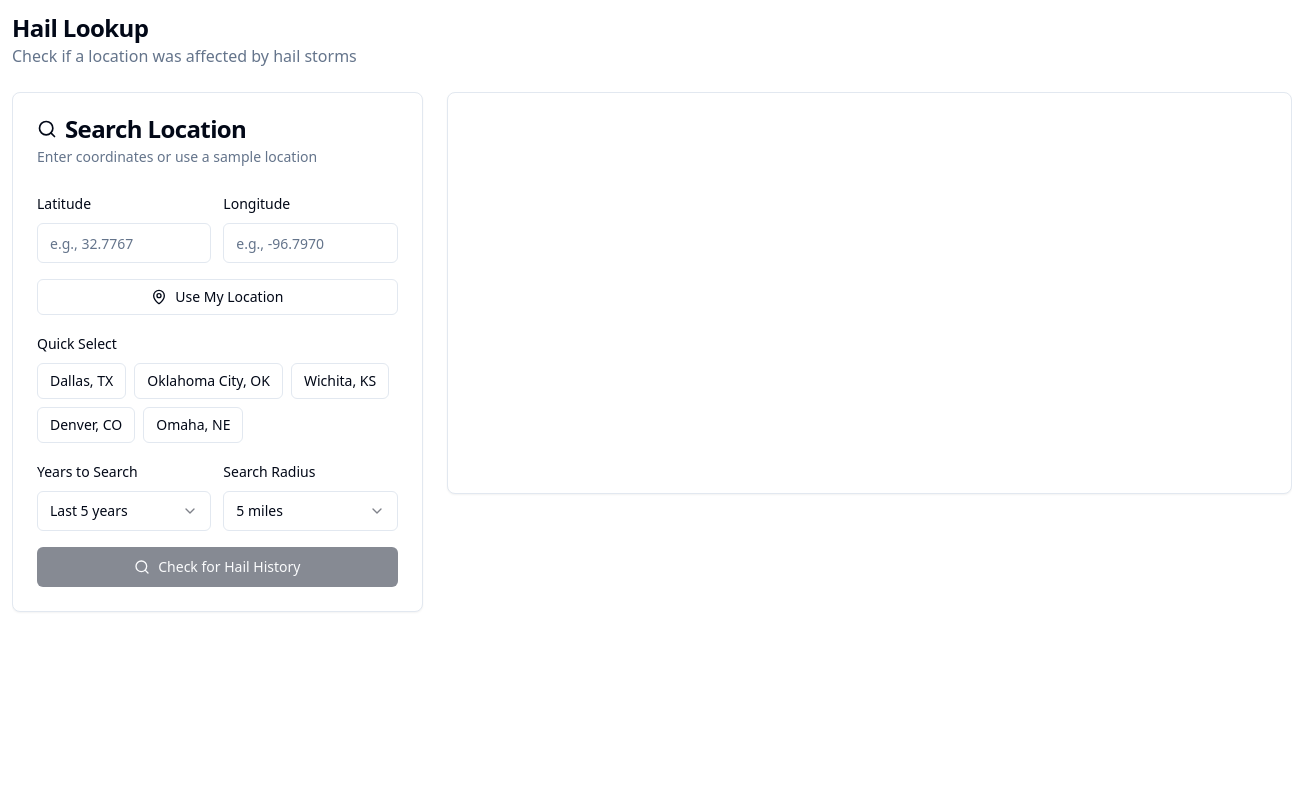
Test: HailLookupPage › Sample Locations › fills coordinates when sample location clicked
Click the button "Dallas, TX".
click(82, 381)  # box [37,363,126,399]
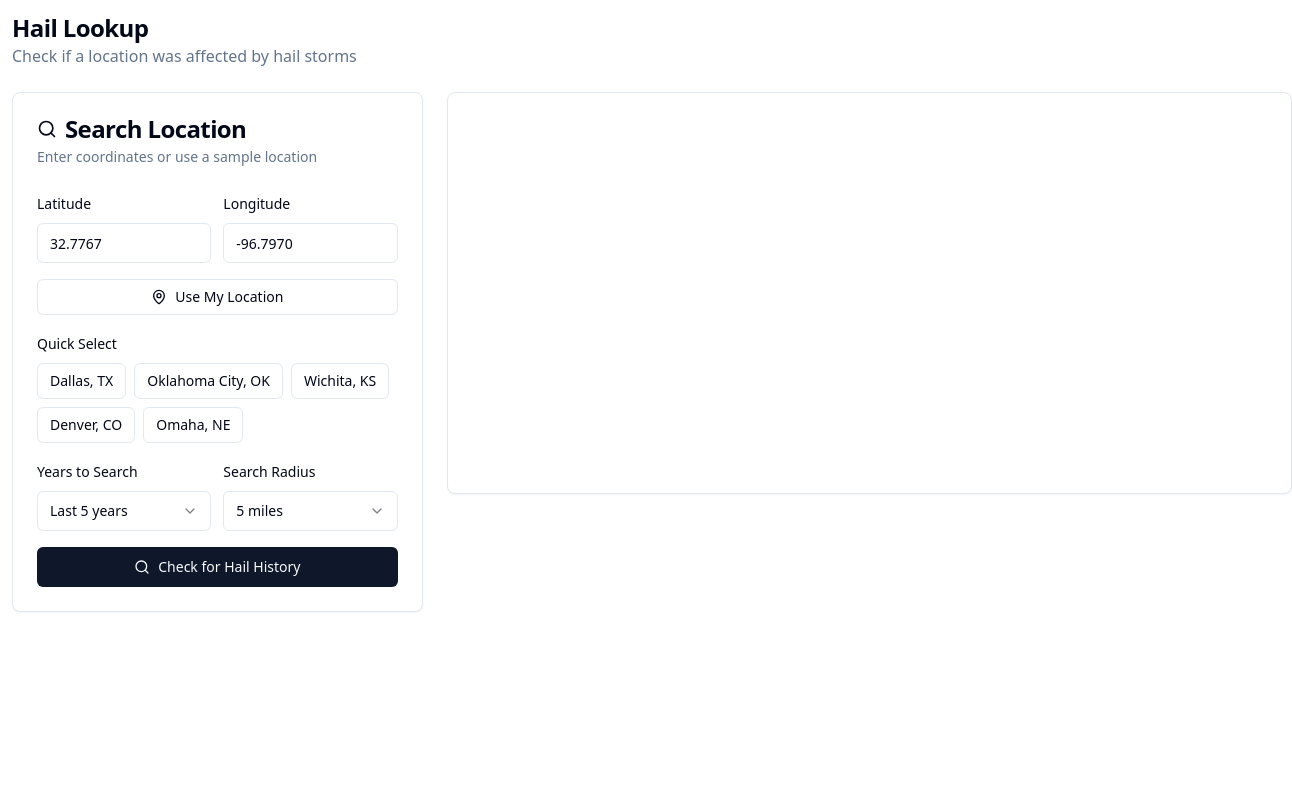
Check: the field with placeholder "e.g., 32.7767" holds "32.7767", box [37,223,211,263]
